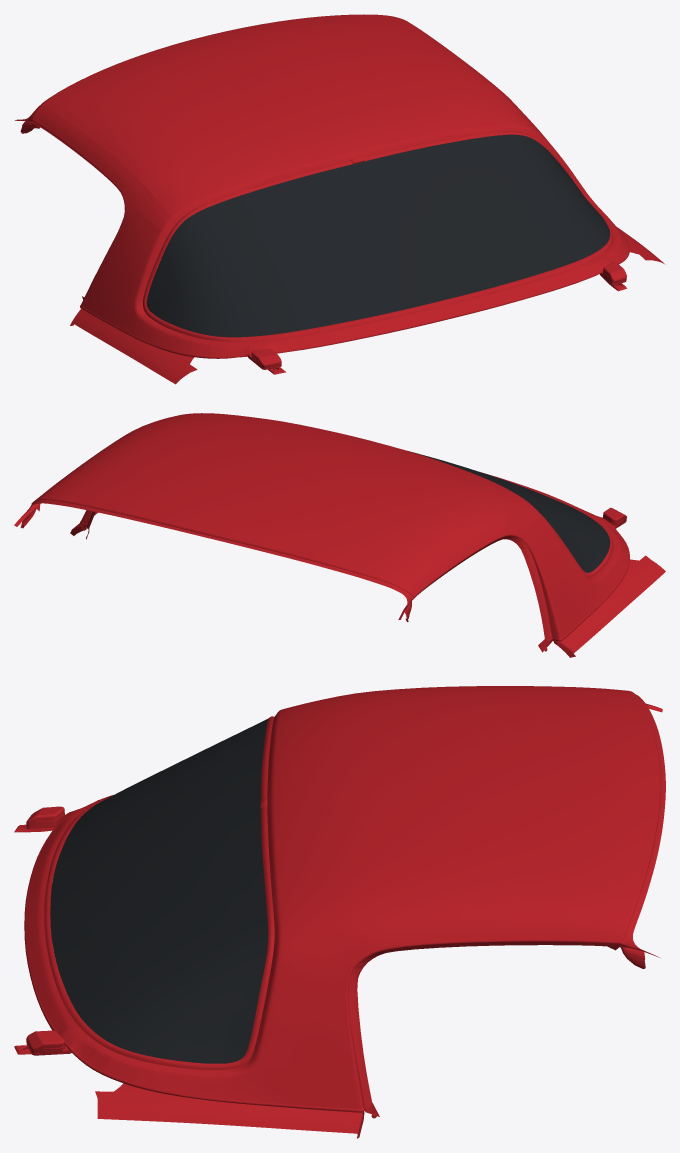
The model's file is stock.glb.
3 renders of one model, top to bottom at view 1: azimuth 30°, elevation 25°; view 2: azimuth 150°, elevation 25°; view 3: azimuth 270°, elevation 25°, orthographic. The views are drawn at different scales.
Parts seen in each view (by area): view 1: Miata_Stock_roof, Miata_Stock_RoofGlass; view 2: Miata_Stock_roof, Miata_Stock_RoofGlass; view 3: Miata_Stock_roof, Miata_Stock_RoofGlass.
Boxes of the visible parts, x1=… form: Miata_Stock_roof: x1=15, y1=14, x2=665, y2=384; Miata_Stock_RoofGlass: x1=146, y1=134, x2=610, y2=337; Miata_Stock_roof: x1=14, y1=413, x2=665, y2=657; Miata_Stock_RoofGlass: x1=408, y1=451, x2=610, y2=572; Miata_Stock_roof: x1=14, y1=686, x2=665, y2=1138; Miata_Stock_RoofGlass: x1=50, y1=719, x2=268, y2=1063.
Bounding box in the file's own units: 62.44 × 18.24 × 52.57.
